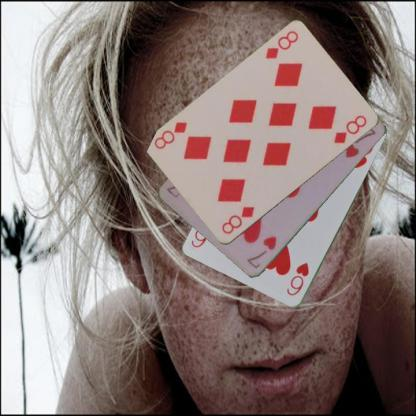6h: (284, 260, 311, 298)
7h: (244, 233, 278, 270)
8d: (263, 28, 300, 61), (218, 204, 256, 236)
